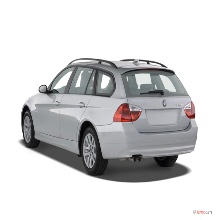no damage: (21, 58, 199, 174)
